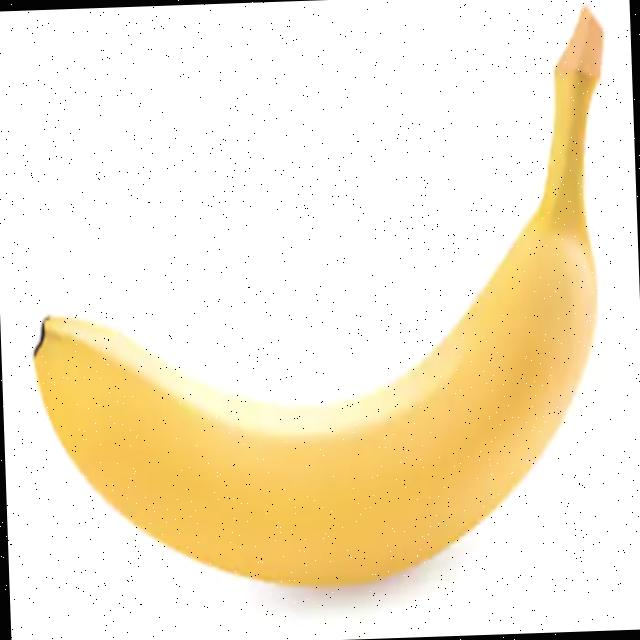Ripe: (19, 3, 611, 600)
